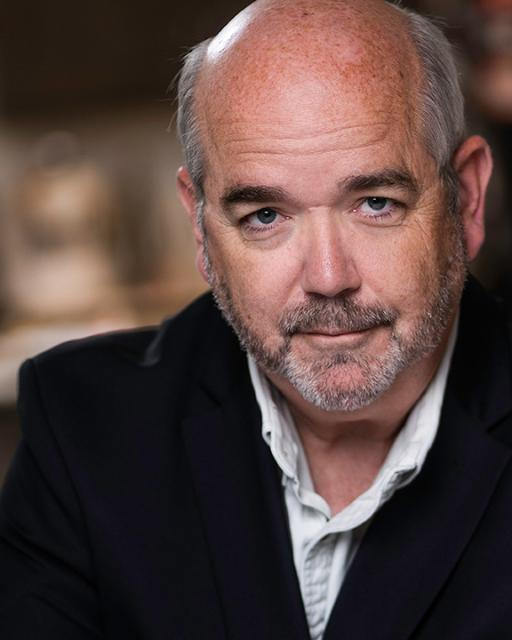crows_feet: (408, 194, 440, 226)
forehead: (346, 131, 390, 159), (333, 114, 377, 140), (236, 140, 280, 164), (297, 138, 337, 158)
frown_line: (304, 194, 336, 218)
